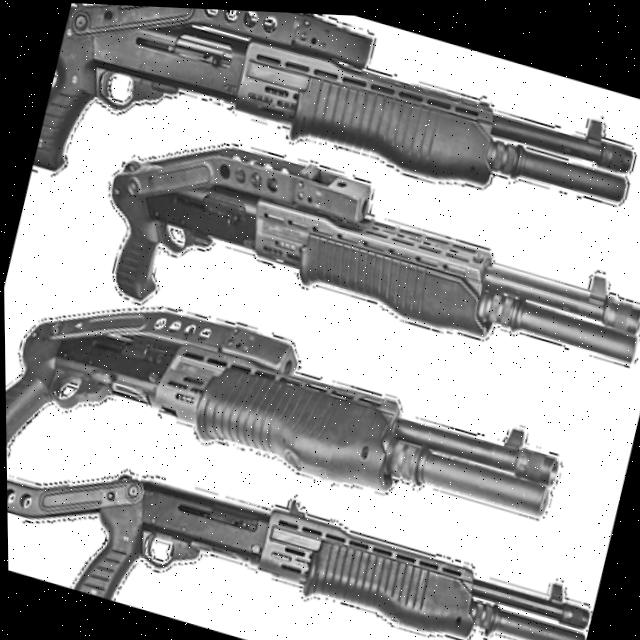firearm: (29, 1, 640, 325), (3, 261, 566, 609), (81, 105, 640, 430), (5, 411, 592, 640)
